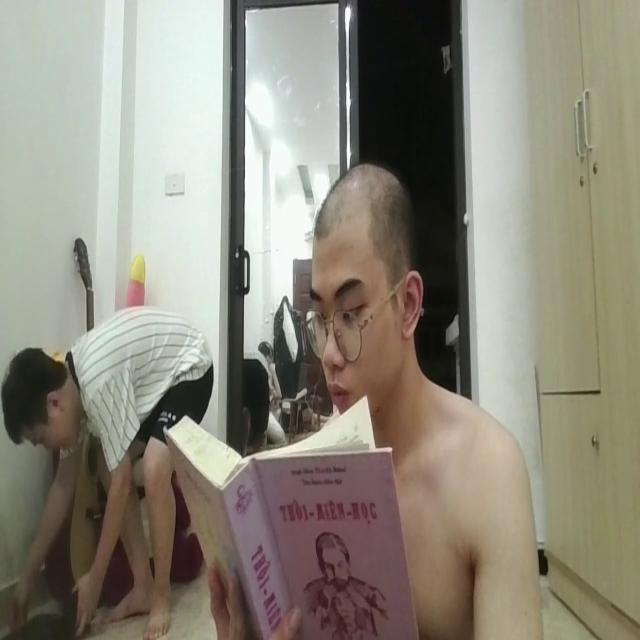book: (161, 399, 423, 640)
extra_person: (0, 306, 222, 640)
student: (301, 150, 551, 640)
